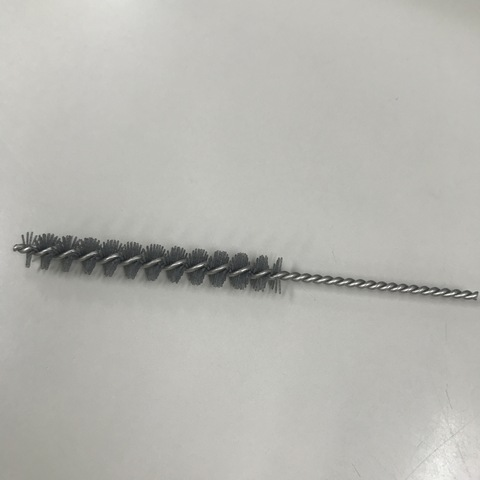Twist Brush-A: (12, 229, 480, 302)
